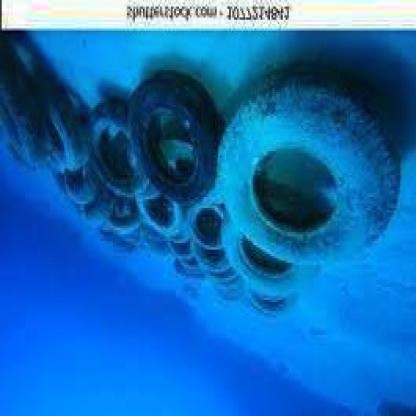tire: (212, 70, 402, 263), (126, 61, 229, 206), (83, 92, 157, 195), (177, 204, 242, 291), (2, 22, 38, 175), (35, 72, 94, 164), (220, 241, 314, 298), (124, 186, 184, 237), (85, 195, 144, 236), (54, 171, 100, 212)
